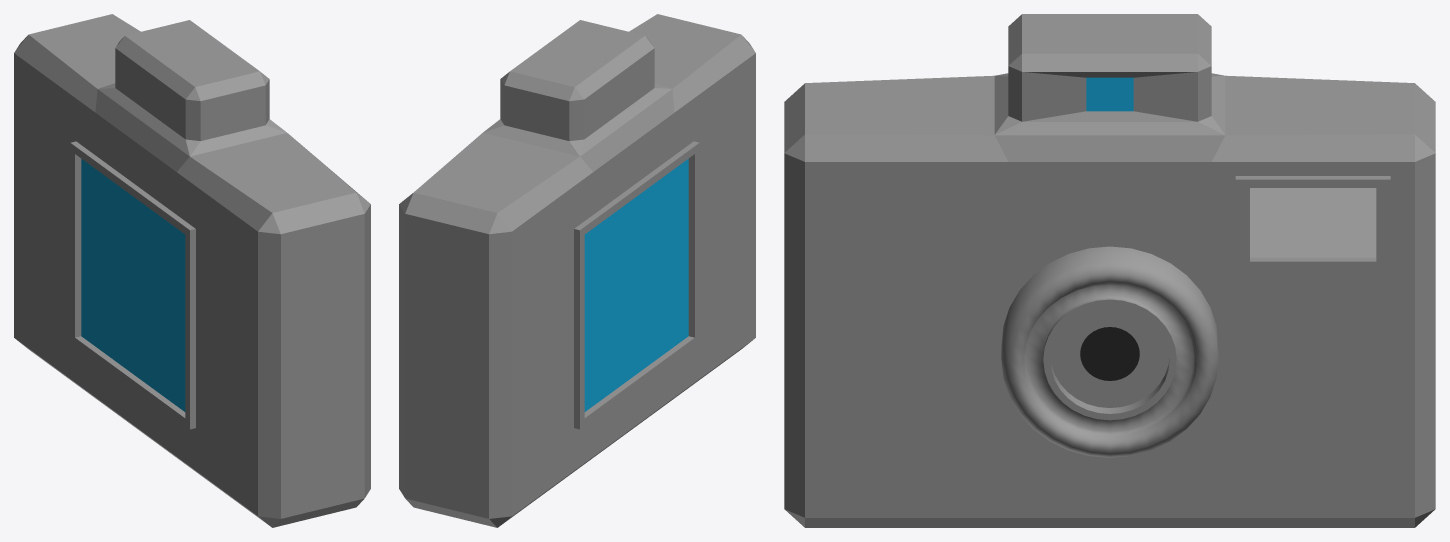
File: Camera.fbx
The picture shows the model from 3 angles, left to right: view 1: azimuth 30°, elevation 25°; view 2: azimuth 150°, elevation 25°; view 3: azimuth 270°, elevation 25°; orthographic projection. The views are drawn at different scales.
Visible parts, largest first — view 1: 立方体; view 2: 立方体; view 3: 立方体.
Boxes of the visible parts, left/top/right/bottom form: 立方体: left=14, top=14, right=370, bottom=527; 立方体: left=399, top=14, right=755, bottom=527; 立方体: left=784, top=14, right=1435, bottom=527.
Bounding box in the file's own units: 19.78 × 47.62 × 60.
